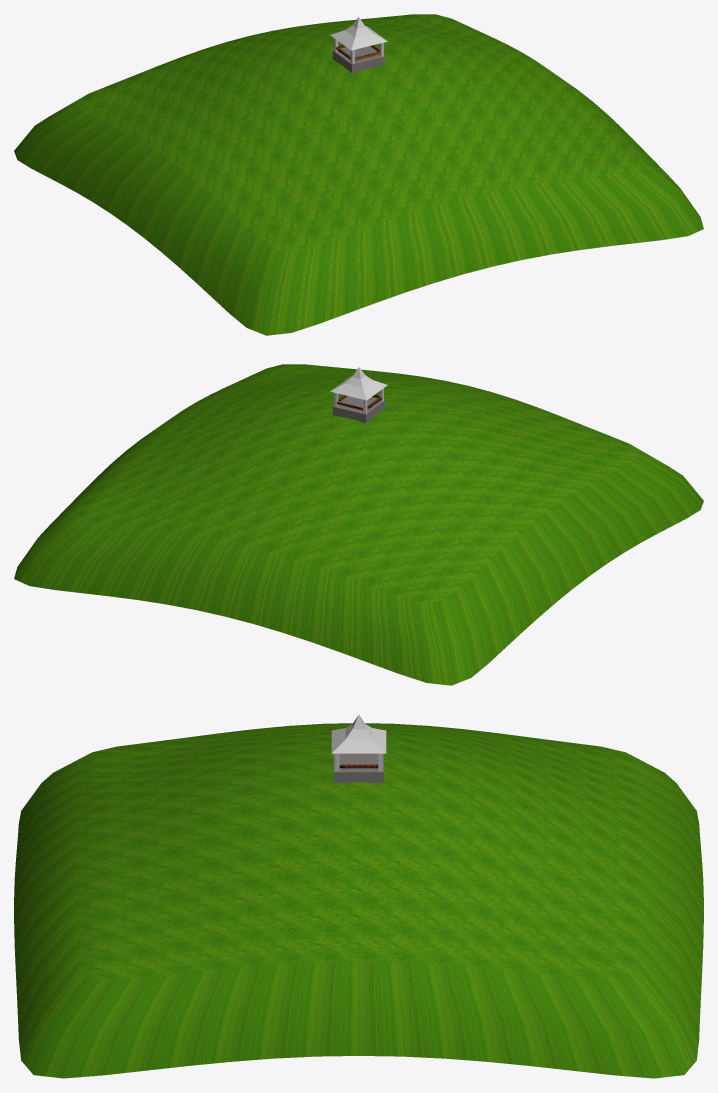
File: area.fbx
3 views of the same model, one above another, from view 1: azimuth 30°, elevation 25°; view 2: azimuth 150°, elevation 25°; view 3: azimuth 270°, elevation 25° (orthographic). The views are drawn at different scales.
Visible parts, largest first — view 1: Grass, Roof, Floor; view 2: Grass, Roof, Floor; view 3: Grass, Roof, Floor.
Boxes of the visible parts, x1,y1,x2,y2 form: Grass: (14,14,703,335); Roof: (330,17,387,50); Floor: (332,46,385,73); Grass: (14,364,703,685); Roof: (330,367,387,400); Floor: (332,396,385,423); Grass: (14,723,703,1078); Roof: (331,715,386,753); Floor: (334,753,383,783).
Bounding box in the file's own units: 8979 × 3204 × 8979.
